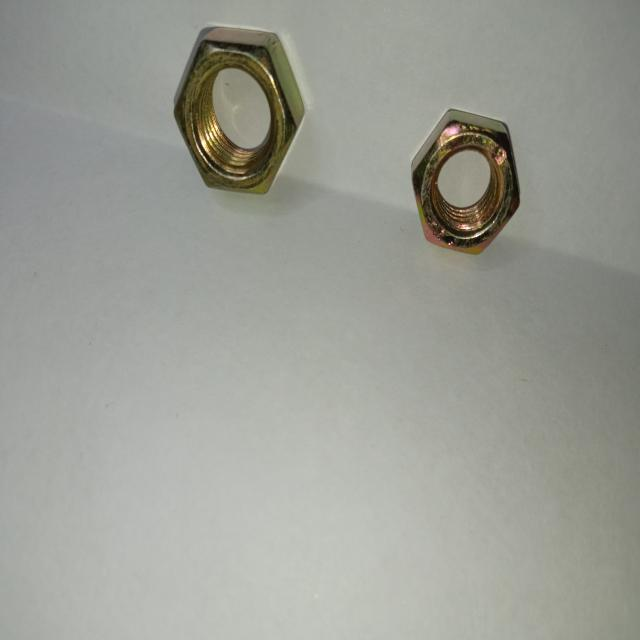m10: (177, 26, 296, 193)
m8: (414, 108, 518, 260)
